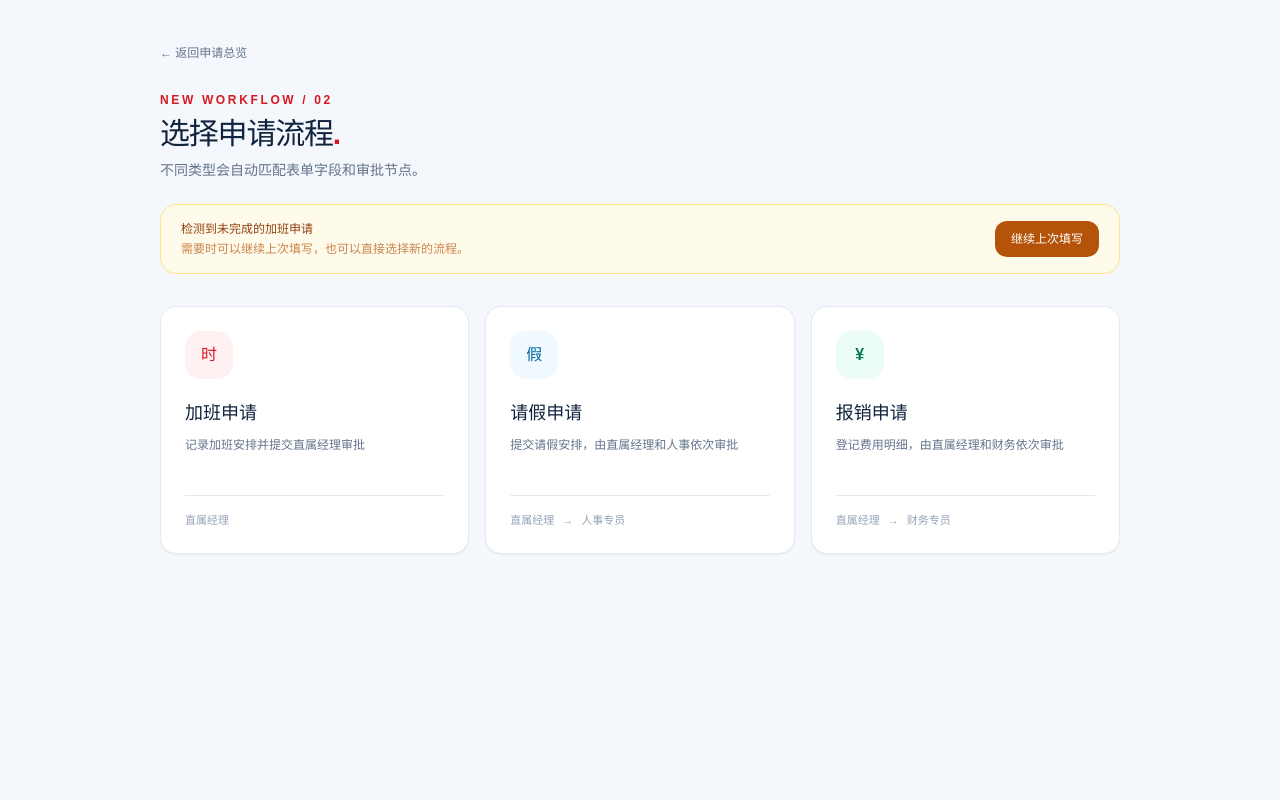
Test: new application page › stays on process selection when autosaved content exists until the user restores it
This screenshot has width=1280, height=800.
Expected: the heading "选择申请流程." is shown, [160,117,340,150]
Expected: the field labelled "加班原因" is not shown
Click the button "继续上次填写" at (1047, 239), box [995,221,1099,257]
(page scrolled)
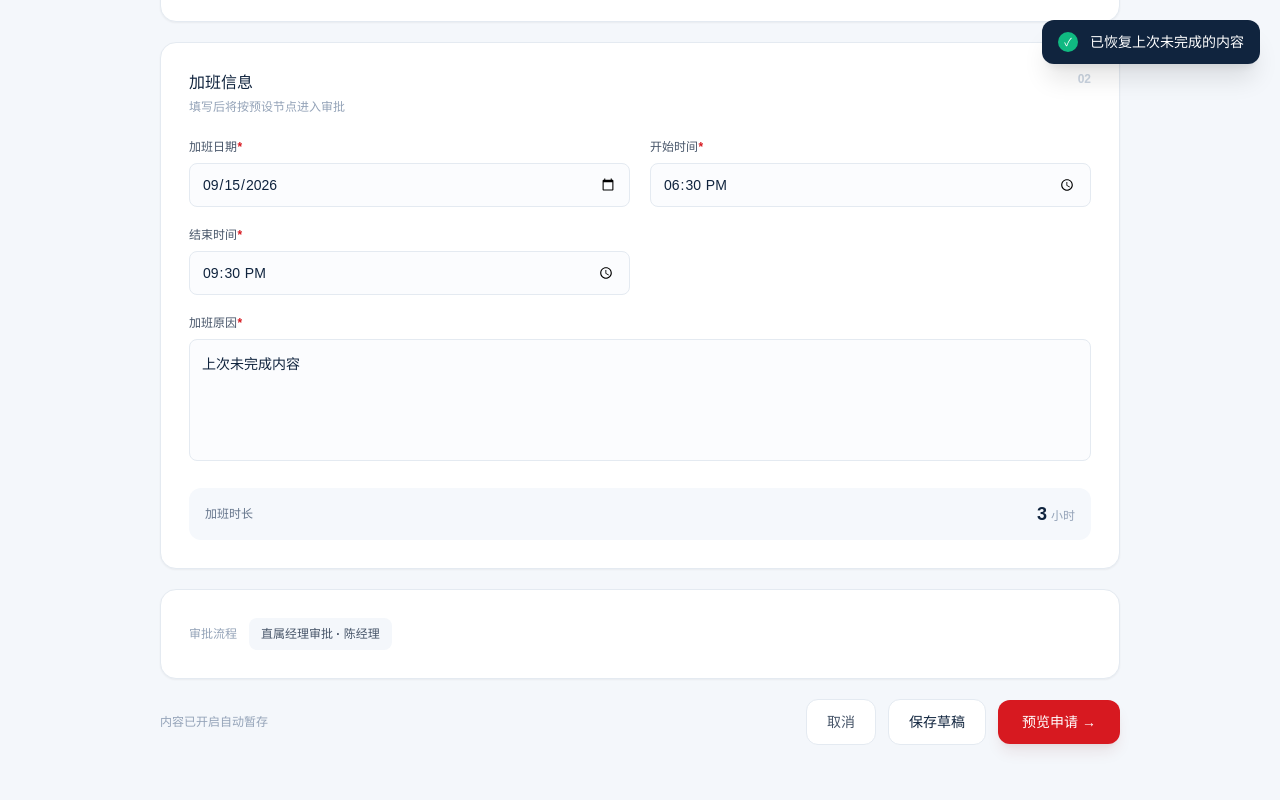
Expected: the text box labelled "加班原因*" holds "上次未完成内容", [189,339,1091,461]
